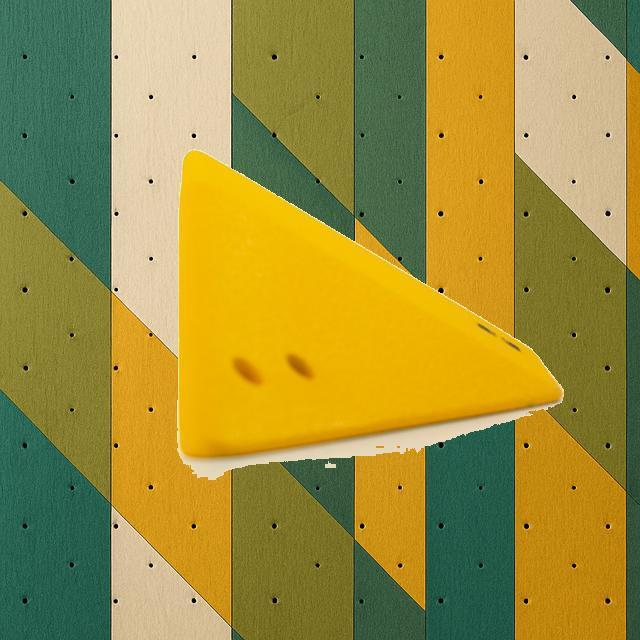Volume: (177, 147, 563, 463)
